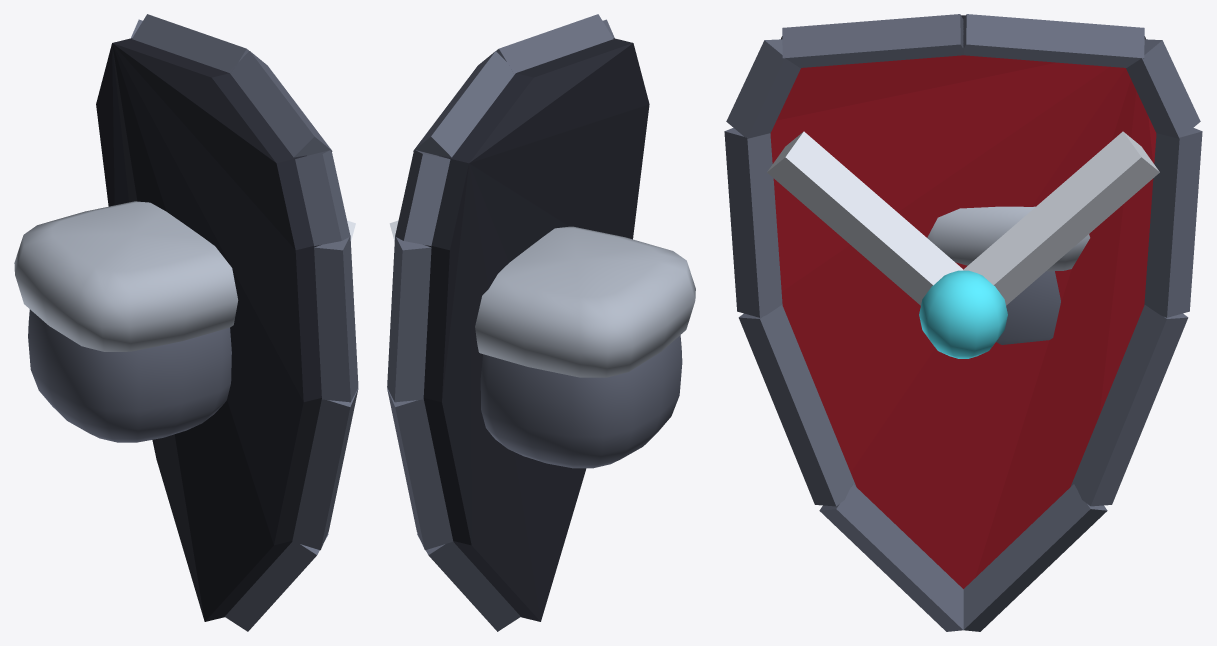
File: knight_hand_shield.obj
3 renders of one model, left to right at view 1: azimuth 30°, elevation 25°; view 2: azimuth 150°, elevation 25°; view 3: azimuth 270°, elevation 25°, orthographic. The views are drawn at different scales.
Parts seen in each view (by area): view 1: player_hand_shield; view 2: player_hand_shield; view 3: player_hand_shield.
Boxes of the visible parts, <box> form: player_hand_shield: <box>14,14,358,631</box>; player_hand_shield: <box>387,14,695,631</box>; player_hand_shield: <box>724,14,1202,631</box>.
Bounding box in the file's own units: 0.2681 × 0.5398 × 0.3759.
Materials: 1 (1 with a texture image).
